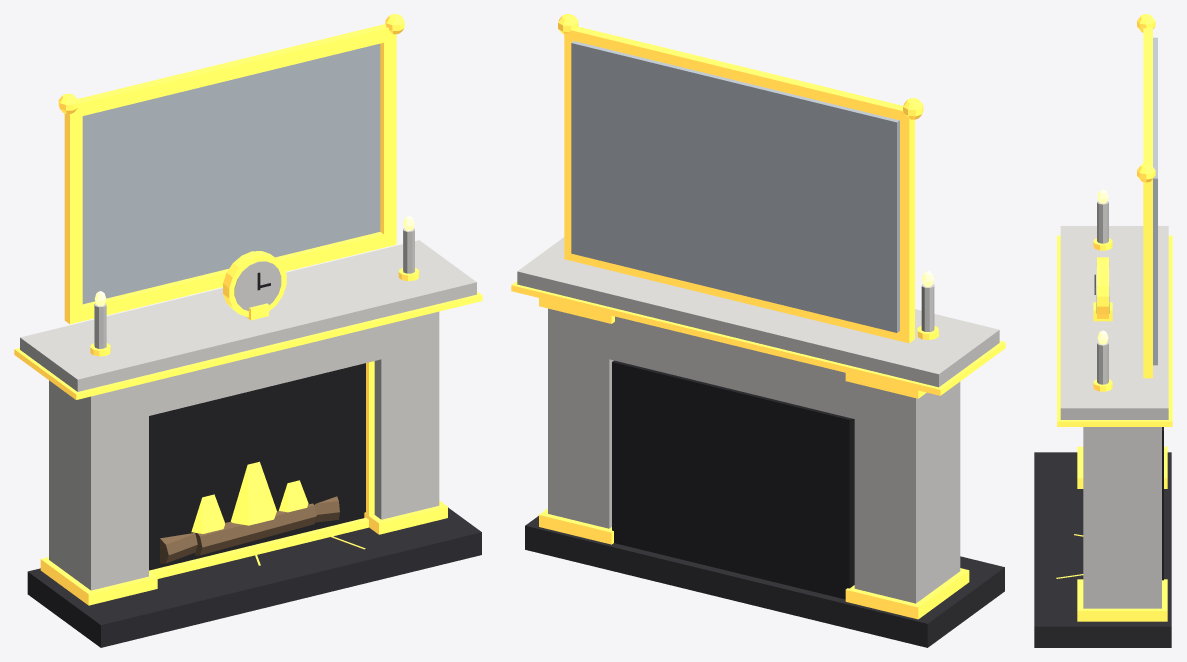
The model's file is lux_marble_fireplace.glb.
3 renders of one model, left to right at view 1: azimuth 30°, elevation 25°; view 2: azimuth 150°, elevation 25°; view 3: azimuth 270°, elevation 25°, orthographic. The views are drawn at different scales.
Parts seen in each view (by area): view 1: lux_marble_fireplace; view 2: lux_marble_fireplace; view 3: lux_marble_fireplace.
Part boxes in pixels (left/top/right/bottom): lux_marble_fireplace: left=14, top=14, right=482, bottom=647; lux_marble_fireplace: left=511, top=14, right=1005, bottom=647; lux_marble_fireplace: left=1034, top=14, right=1172, bottom=647.
Bounding box in the file's own units: 2.24 × 2.65 × 0.705.
